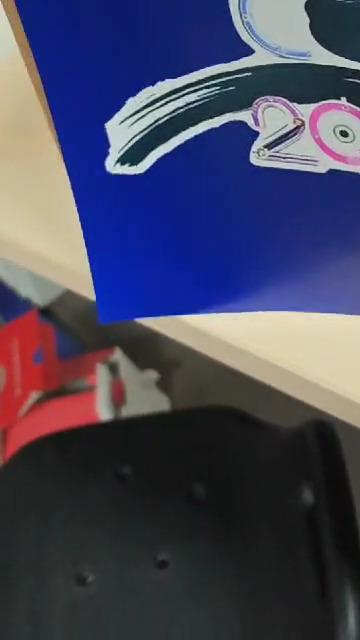B_R1: (90, 0, 360, 273)
